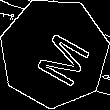M_NW: (21, 20, 87, 86)
